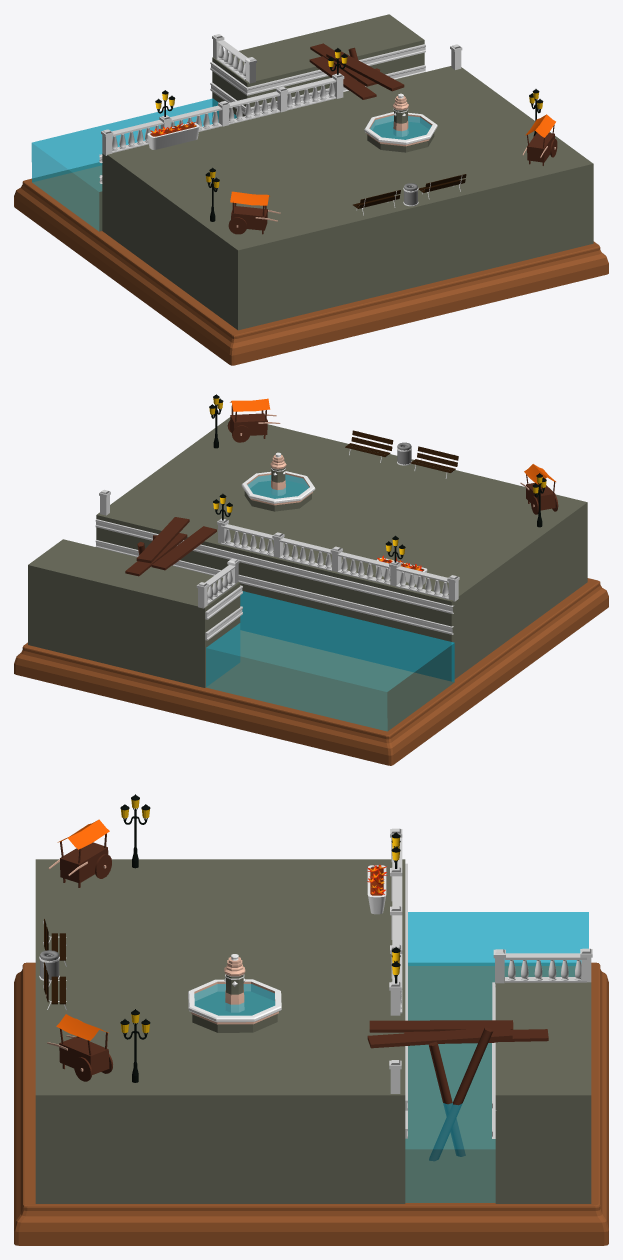
The model's file is Level55.FBX.
3 renders of one model, top to bottom at view 1: azimuth 30°, elevation 25°; view 2: azimuth 150°, elevation 25°; view 3: azimuth 270°, elevation 25°, orthographic. The views are drawn at different scales.
Parts seen in each view (by area): view 1: Box186, Box211, Box206, Box207; view 2: Box186, Box206, Box211, Box207; view 3: Box186, Box211, Box206, Cylinder337, Cylinder336, Box207.
Part boxes in pixels (left/top/right/bottom): Box186: left=14, top=14, right=608, bottom=365; Box211: left=326, top=51, right=404, bottom=91; Box206: left=309, top=56, right=376, bottom=99; Box207: left=310, top=43, right=377, bottom=86; Box186: left=14, top=394, right=608, bottom=765; Box206: left=151, top=526, right=216, bottom=570; Box211: left=136, top=517, right=189, bottom=563; Box207: left=125, top=533, right=187, bottom=576; Box186: left=14, top=794, right=608, bottom=1245; Box211: left=367, top=1026, right=512, bottom=1048; Box206: left=369, top=1020, right=513, bottom=1032; Cylinder337: left=429, top=1027, right=492, bottom=1161; Cylinder336: left=429, top=1041, right=465, bottom=1156; Box207: left=404, top=1029, right=548, bottom=1043.
Bounding box in the file's own units: 336 × 135 × 336.
